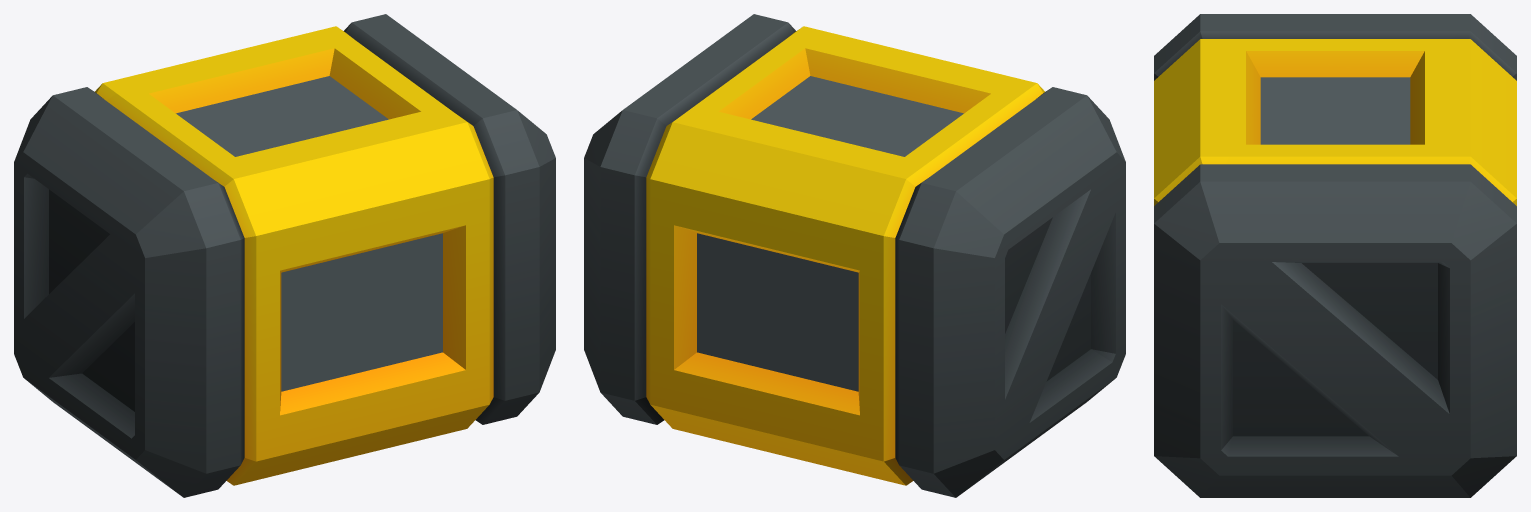
The picture shows the model from 3 angles, left to right: view 1: azimuth 30°, elevation 25°; view 2: azimuth 150°, elevation 25°; view 3: azimuth 270°, elevation 25°; orthographic projection. The views are drawn at different scales.
Visible parts, largest first — view 1: Box_015; view 2: Box_015; view 3: Box_015.
Part boxes in pixels (bbox=[...]): Box_015: bbox=[14, 14, 555, 497]; Box_015: bbox=[584, 14, 1125, 497]; Box_015: bbox=[1154, 14, 1516, 497].
Size of the model in its own units: 84.72 by 62.83 by 60.43.
